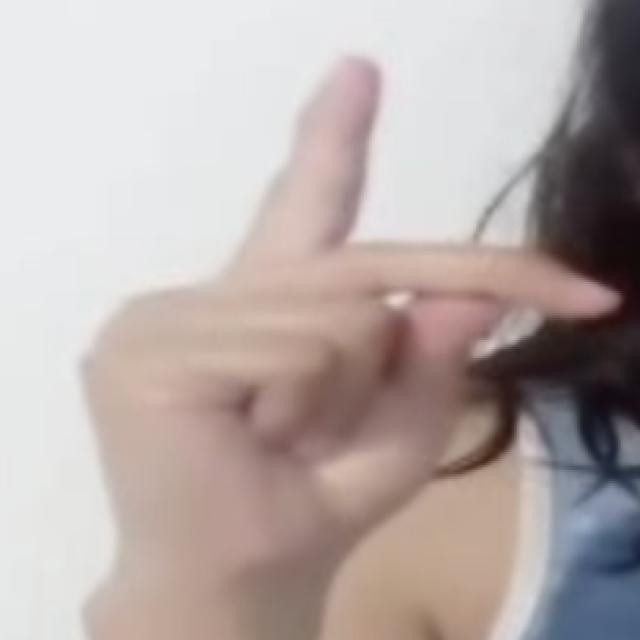P: (76, 37, 625, 604)
